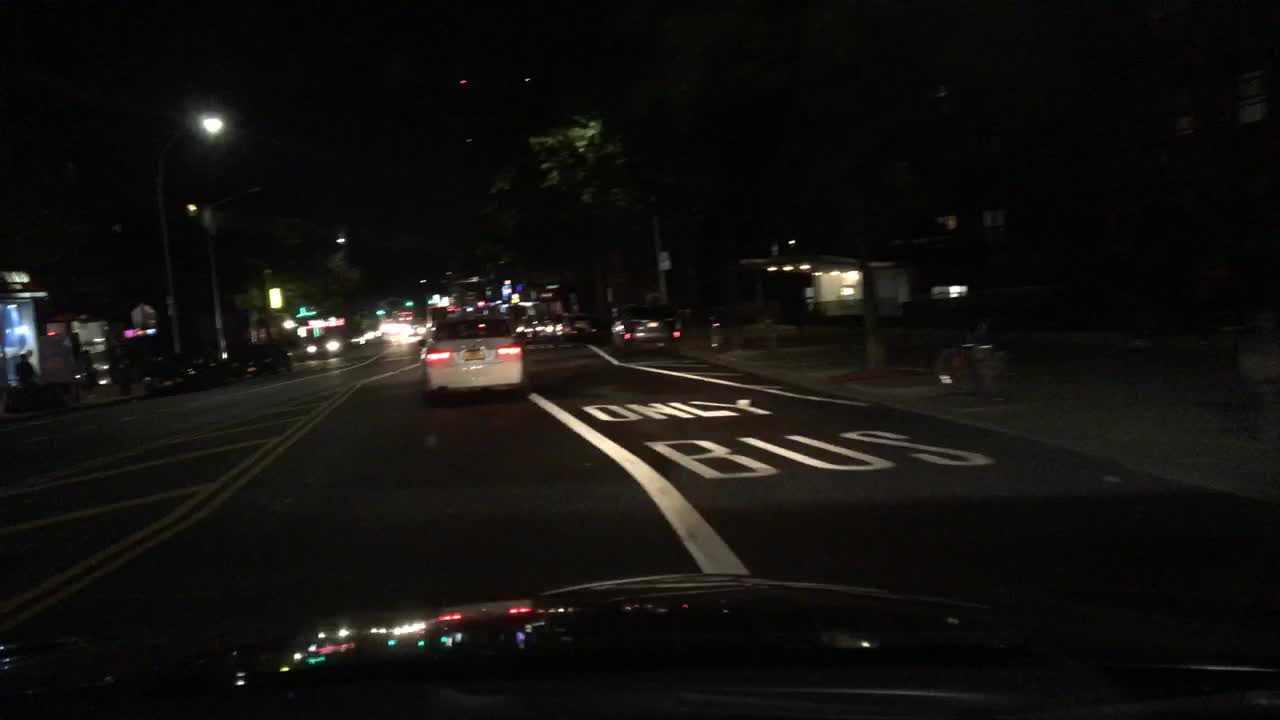bike: (927, 329, 1022, 404)
car: (418, 308, 523, 395), (142, 345, 225, 397), (608, 311, 684, 351), (227, 343, 292, 378), (552, 317, 597, 344), (302, 336, 345, 358), (535, 318, 565, 339), (518, 321, 535, 339)
person: (12, 353, 39, 399)
traffic light: (403, 296, 414, 310)
